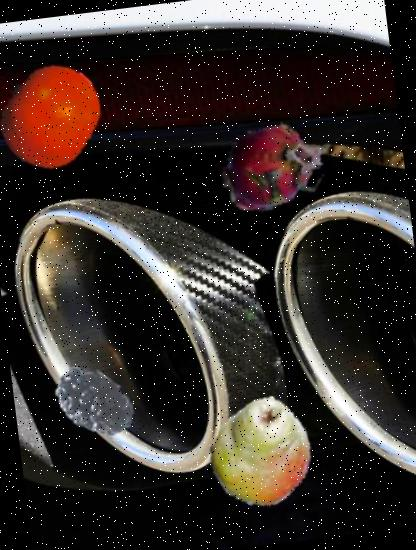Clementine: (0, 57, 109, 175)
Mulberry: (35, 355, 140, 460)
Pear: (198, 388, 323, 512)
Pitahaya: (210, 100, 340, 229)
